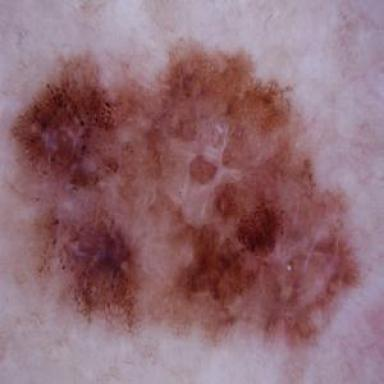Melanoma: (12, 45, 357, 348)
